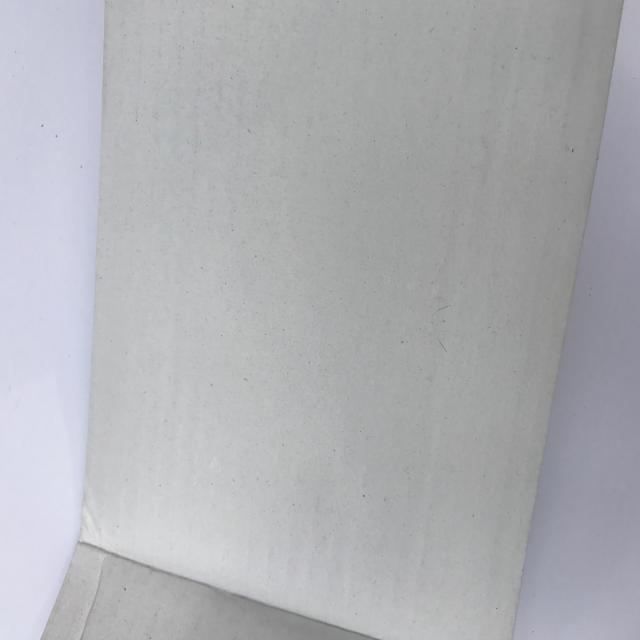cardboard: (26, 0, 632, 640)
